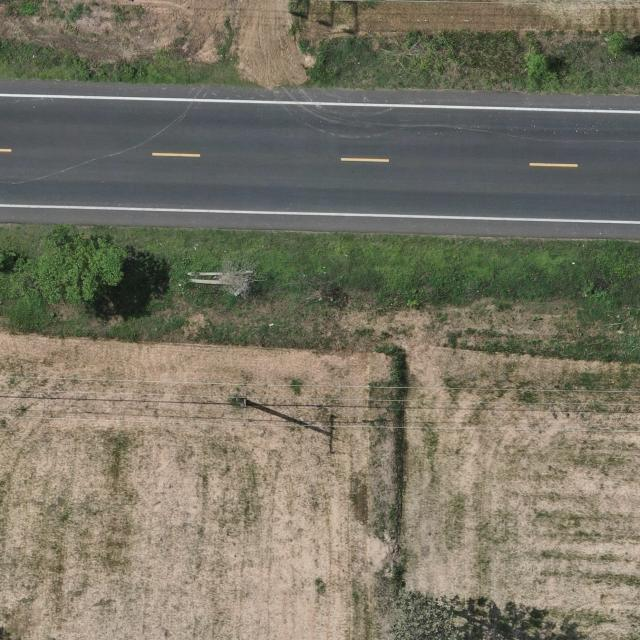Tree: (35, 221, 128, 305), (387, 586, 466, 640), (523, 49, 551, 79), (605, 31, 629, 60)
